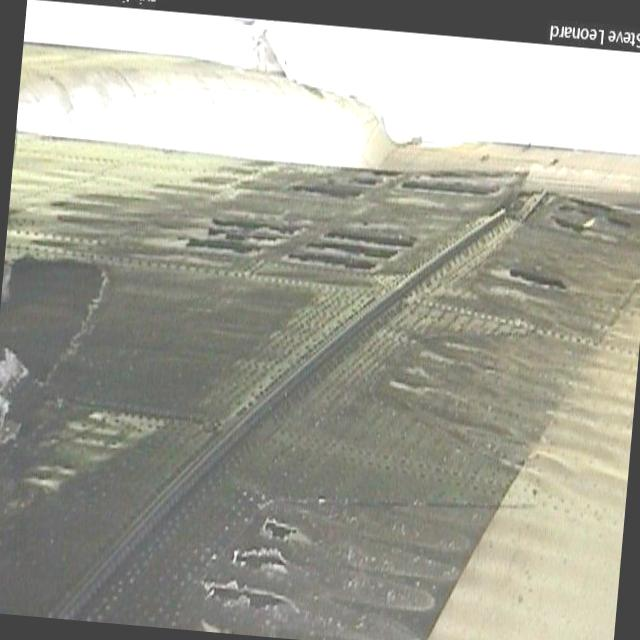crack: (194, 515, 315, 614)
